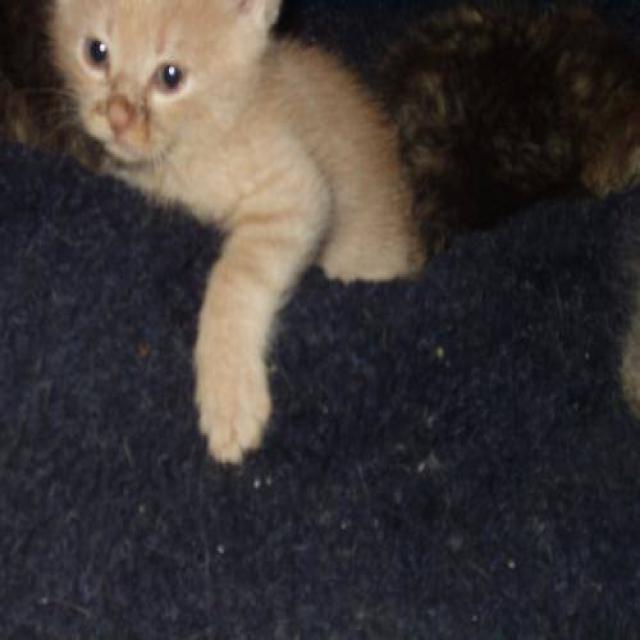cat: (29, 0, 448, 477)
